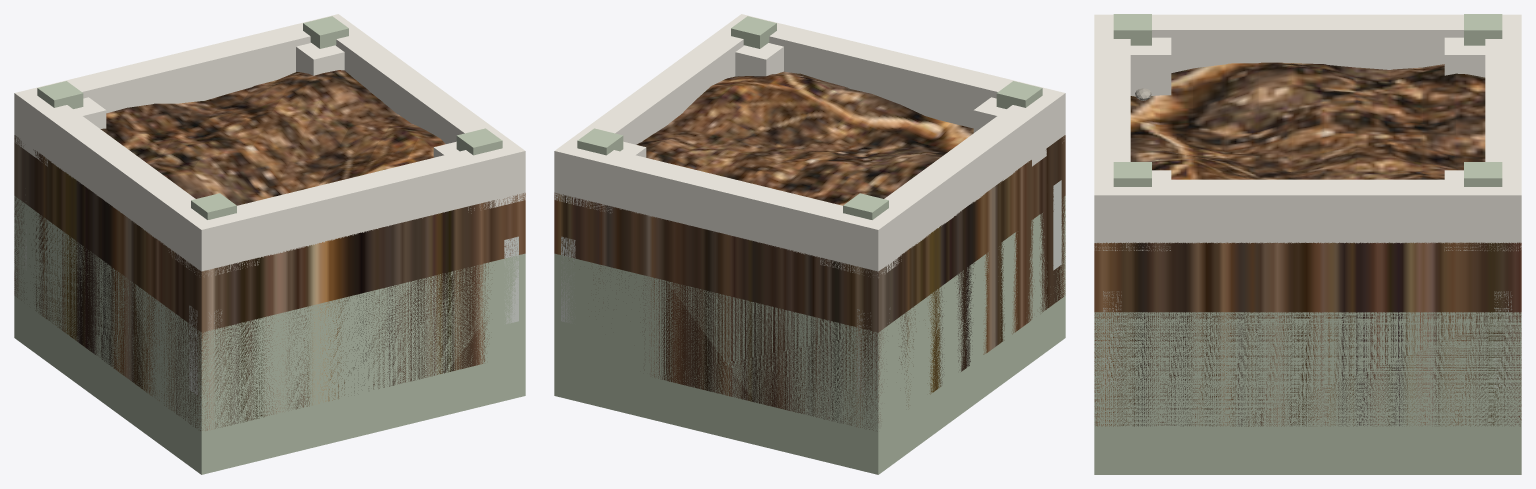
The model's file is s03-untreated-corner-sw.glb.
3 renders of one model, left to right at view 1: azimuth 30°, elevation 25°; view 2: azimuth 150°, elevation 25°; view 3: azimuth 270°, elevation 25°, orthographic. The views are drawn at different scales.
Visible parts, largest first — view 1: S03_Physical_Untreated_Soil_Top_RealRelief, S03_Frame_Sage_Solid_Bottom, S03_Cream_Rim_N, S03_Cream_Rim_W, S03_Cream_Rim_S, S03_Cream_Rim_E, S03_Cream_Protective_Corner_1_1, S03_Cream_Protective_Corner_0_0, S03_Cream_Protective_Corner_1_0, S03_Cream_Protective_Corner_0_1, S03_Sage_Corner_Inset_1_0, S03_Sage_Corner_Inset_0_0 (+4 smaller); view 2: S03_Physical_Untreated_Soil_Top_RealRelief, S03_Frame_Sage_Solid_Bottom, S03_Cream_Rim_S, S03_Cream_Rim_N, S03_Cream_Rim_W, S03_Cream_Rim_E, S03_Cream_Protective_Corner_1_0, S03_Cream_Protective_Corner_1_1, S03_Cream_Protective_Corner_0_1, S03_Cream_Protective_Corner_0_0, S03_Sage_Corner_Inset_1_1, S03_Sage_Corner_Inset_0_1 (+4 smaller); view 3: S03_Physical_Untreated_Soil_Top_RealRelief, S03_Frame_Sage_Solid_Bottom, S03_Cream_Rim_E, S03_Cream_Rim_W, S03_Cream_Rim_N, S03_Cream_Rim_S, S03_Cream_Protective_Corner_0_1, S03_Cream_Protective_Corner_0_0, S03_Sage_Corner_Inset_0_0, S03_Sage_Corner_Inset_0_1, S03_Sage_Corner_Inset_1_0, S03_Sage_Corner_Inset_1_1 (+2 smaller).
Boxes of the visible parts, box(x1,y1,x2,y2) form: S03_Physical_Untreated_Soil_Top_RealRelief: box(14, 70, 525, 430); S03_Frame_Sage_Solid_Bottom: box(14, 196, 525, 474); S03_Cream_Rim_N: box(185, 139, 525, 271); S03_Cream_Rim_W: box(14, 86, 228, 271); S03_Cream_Rim_S: box(14, 14, 353, 139); S03_Cream_Rim_E: box(334, 14, 525, 199); S03_Cream_Protective_Corner_1_1: box(433, 141, 525, 213); S03_Cream_Protective_Corner_0_0: box(14, 97, 106, 166); S03_Cream_Protective_Corner_1_0: box(296, 43, 344, 75); S03_Cream_Protective_Corner_0_1: box(168, 213, 259, 275); S03_Sage_Corner_Inset_1_0: box(303, 16, 348, 48); S03_Sage_Corner_Inset_0_0: box(37, 81, 83, 108); S03_Physical_Untreated_Soil_Top_RealRelief: box(554, 71, 1065, 431); S03_Frame_Sage_Solid_Bottom: box(554, 196, 1065, 474); S03_Cream_Rim_S: box(554, 139, 894, 271); S03_Cream_Rim_N: box(727, 14, 1065, 145); S03_Cream_Rim_W: box(851, 86, 1065, 270); S03_Cream_Rim_E: box(554, 14, 755, 198); S03_Cream_Protective_Corner_1_0: box(554, 141, 646, 213); S03_Cream_Protective_Corner_1_1: box(735, 43, 783, 76); S03_Cream_Protective_Corner_0_1: box(973, 97, 1065, 166); S03_Cream_Protective_Corner_0_0: box(820, 222, 901, 277); S03_Sage_Corner_Inset_1_1: box(731, 16, 776, 48); S03_Sage_Corner_Inset_0_1: box(996, 81, 1042, 108); S03_Physical_Untreated_Soil_Top_RealRelief: box(1094, 62, 1521, 426); S03_Frame_Sage_Solid_Bottom: box(1094, 312, 1521, 474); S03_Cream_Rim_E: box(1094, 179, 1521, 243); S03_Cream_Rim_W: box(1094, 14, 1521, 72); S03_Cream_Rim_N: box(1094, 14, 1130, 243); S03_Cream_Rim_S: box(1485, 14, 1521, 243); S03_Cream_Protective_Corner_0_1: box(1130, 37, 1171, 96); S03_Cream_Protective_Corner_0_0: box(1444, 37, 1485, 77); S03_Sage_Corner_Inset_0_0: box(1464, 14, 1502, 45); S03_Sage_Corner_Inset_0_1: box(1113, 14, 1151, 45); S03_Sage_Corner_Inset_1_0: box(1464, 162, 1502, 186); S03_Sage_Corner_Inset_1_1: box(1113, 162, 1151, 186).
Size of the model in its own units: 0.2 by 0.149 by 0.2.
6 materials, 1 textured.
